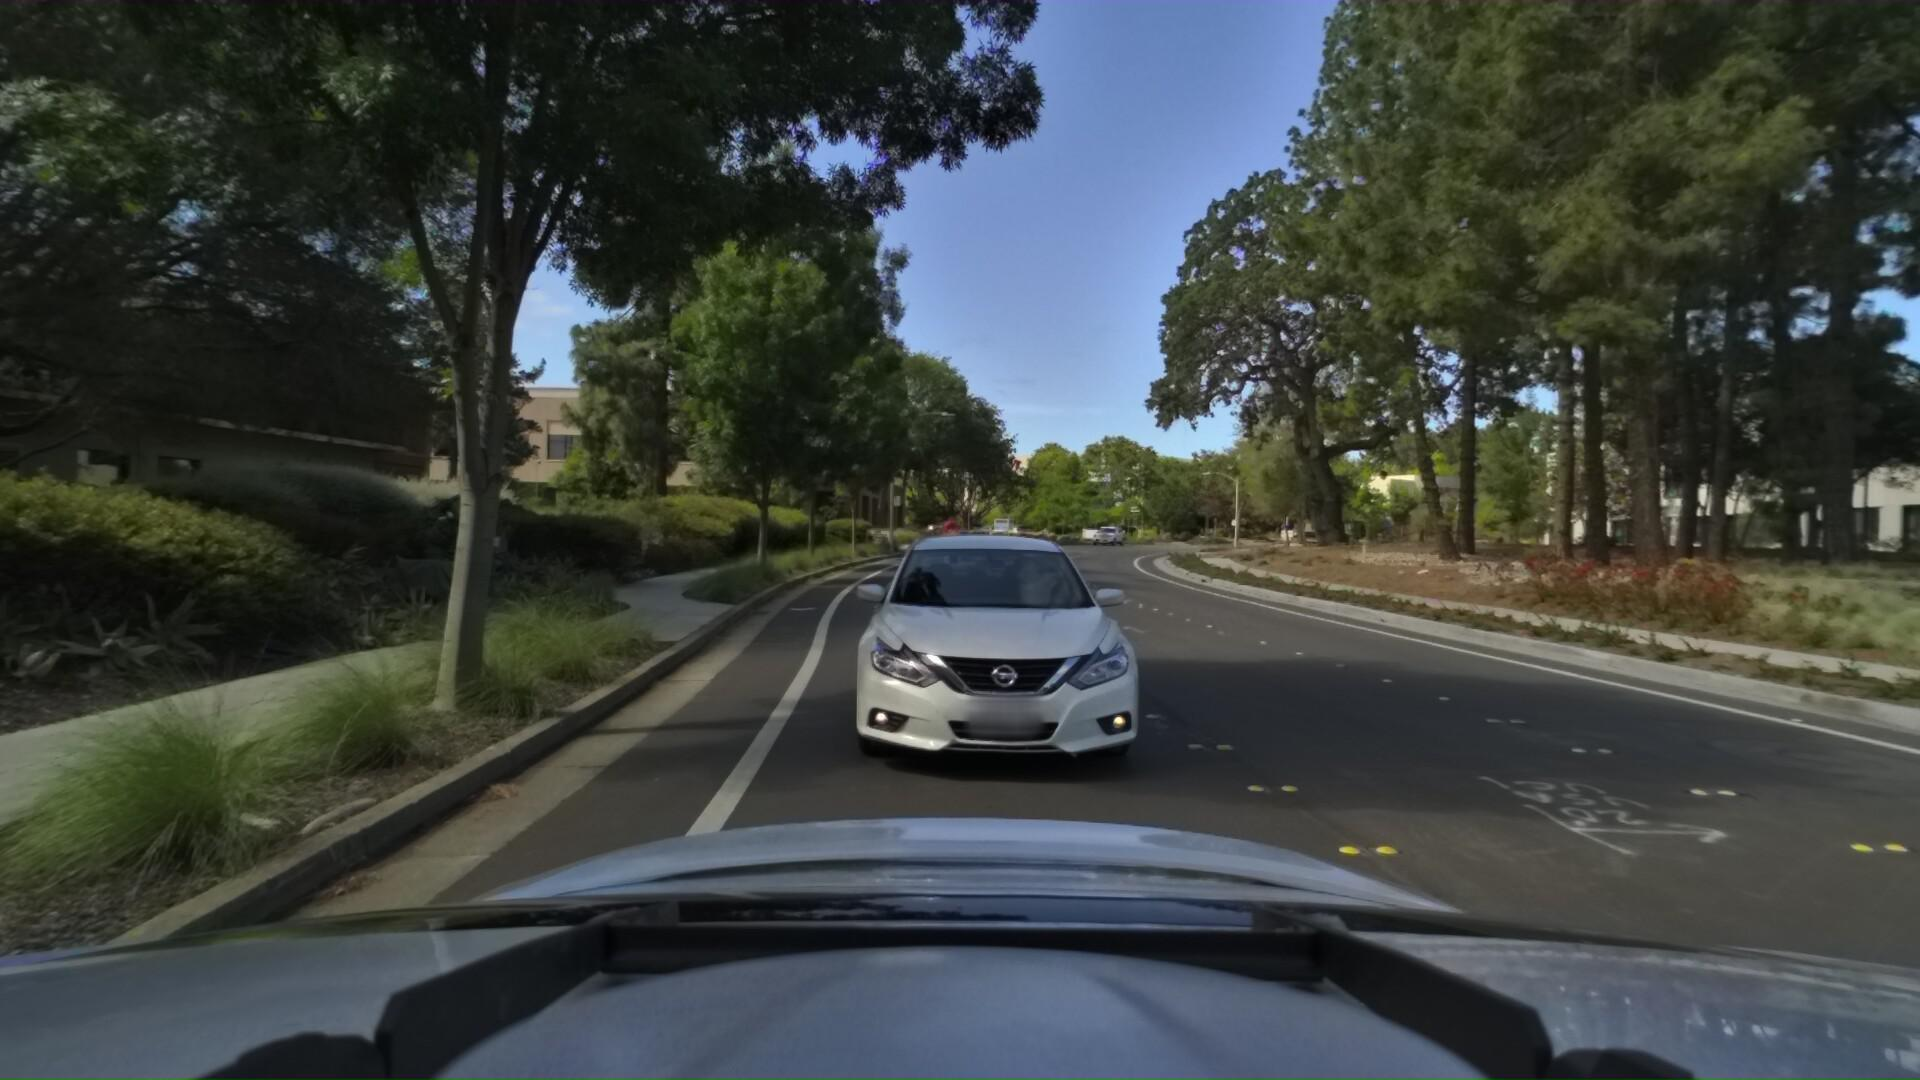car: (836, 479, 1178, 777), (1088, 520, 1126, 543)
